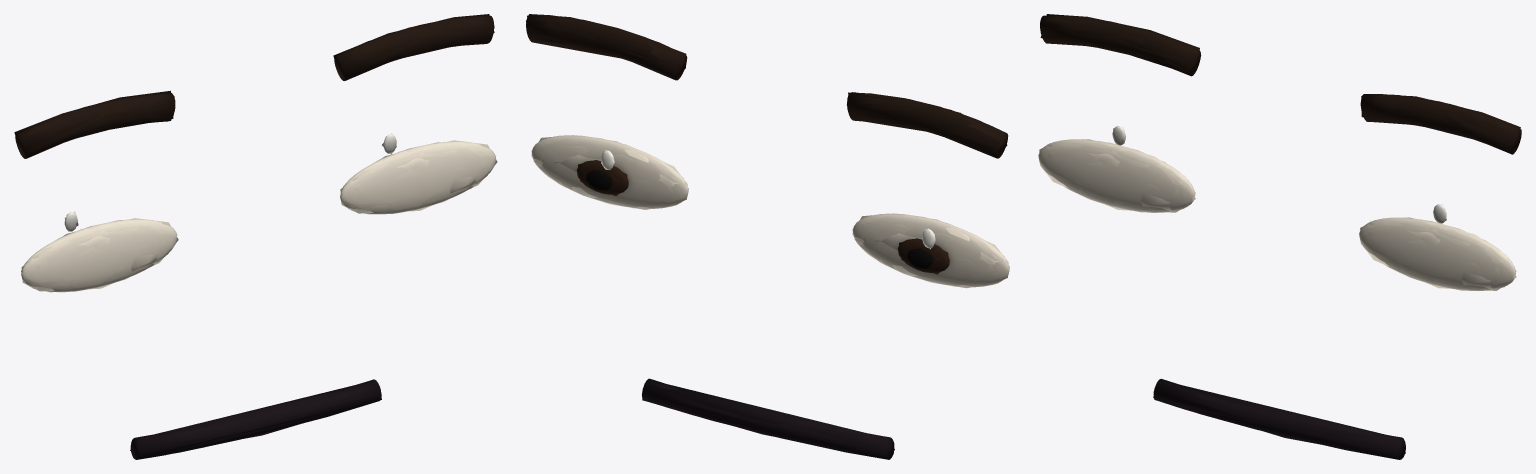
Rendered from squinting.glb.
3 renders of one model, left to right at view 1: azimuth 30°, elevation 25°; view 2: azimuth 150°, elevation 25°; view 3: azimuth 330°, elevation 25°, orthographic.
Visible parts, largest first — view 1: near, mid, far; view 2: near, mid, far; view 3: near, mid, far.
Boxes of the visible parts, <box> form: near: <box>15,15,495,459</box>; mid: <box>15,16,495,459</box>; far: <box>14,14,497,457</box>; near: <box>526,14,1009,459</box>; mid: <box>526,14,1009,459</box>; far: <box>527,15,1008,457</box>; near: <box>1038,15,1521,459</box>; mid: <box>1038,16,1521,459</box>; far: <box>1039,14,1520,458</box>.
Bounding box in the file's own units: 0.6716 × 0.4986 × 0.0541.
6 materials, 6 textured.
